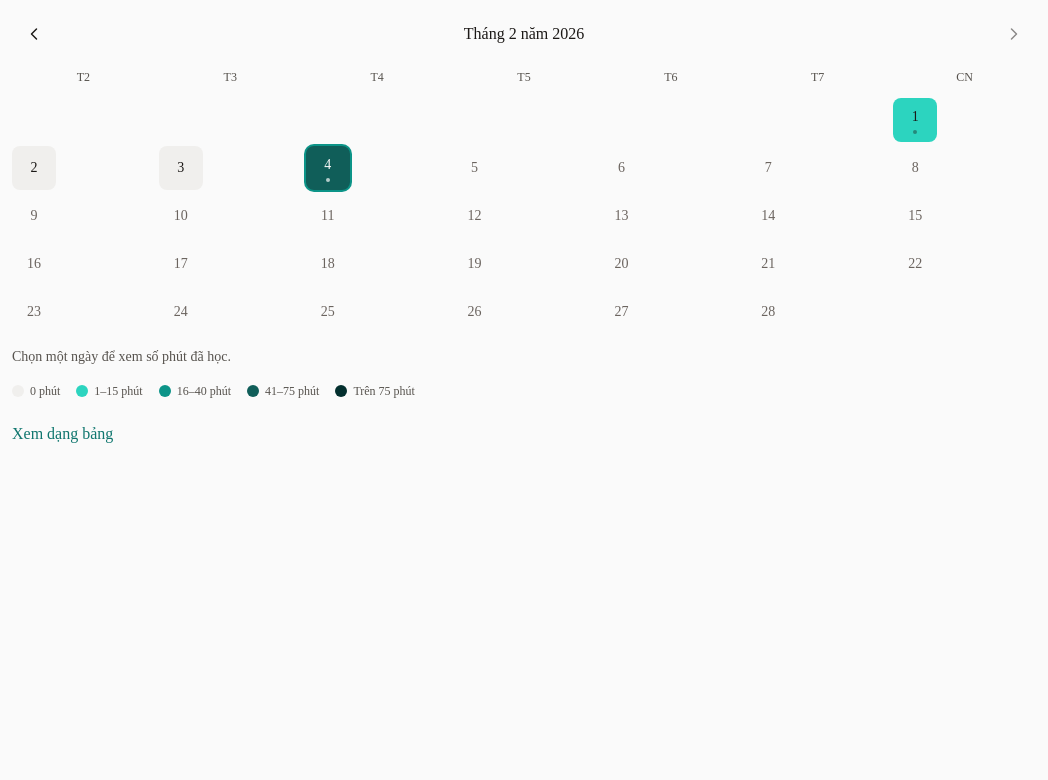
Test: CalendarHeatmap — legend and table › toggles a table of the active days
Click the button "Xem dạng bảng": coordinates (63, 434) [12,412,113,456]
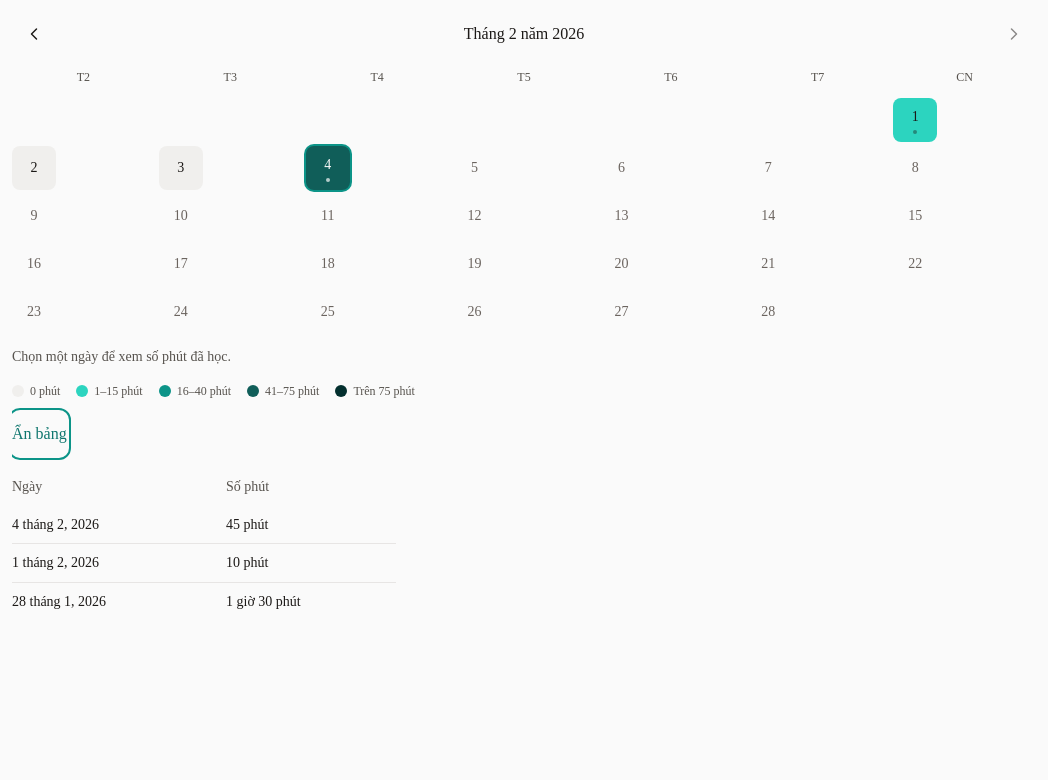
Check: the button "Ẩn bảng" is expanded, box [12,412,67,456]
